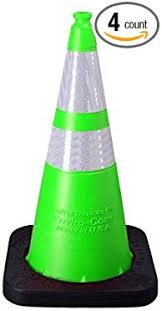cones: (4, 12, 158, 306)
